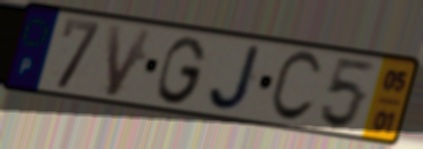5: (318, 54, 381, 131)
7: (55, 15, 105, 91)
C: (265, 49, 325, 125)
G: (154, 34, 209, 107)
J: (207, 43, 266, 114)
V: (104, 21, 157, 100)
